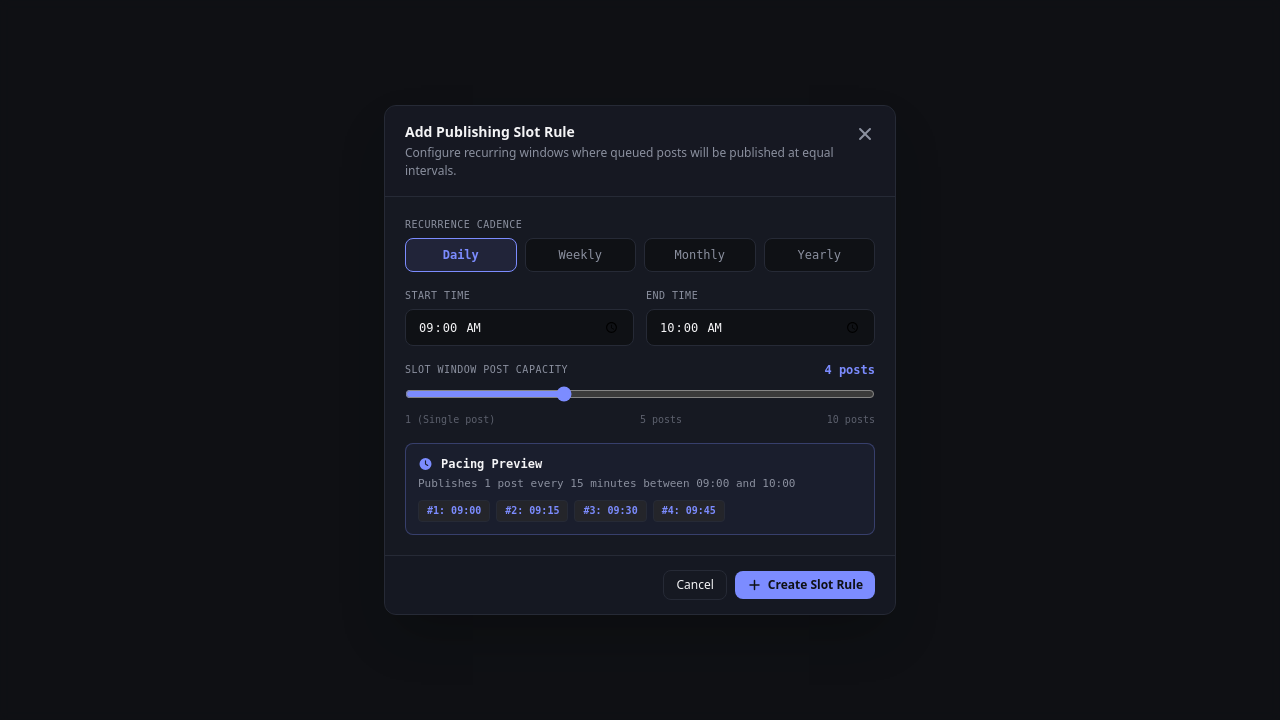
SlotRuleFormModal › changing recurrence to weekly reveals day toggles
The width and height of the screenshot is (1280, 720).
Click the button with test id "recurrence-option-weekly". click: coordinates (580, 255)
box: [524,238,636,272]
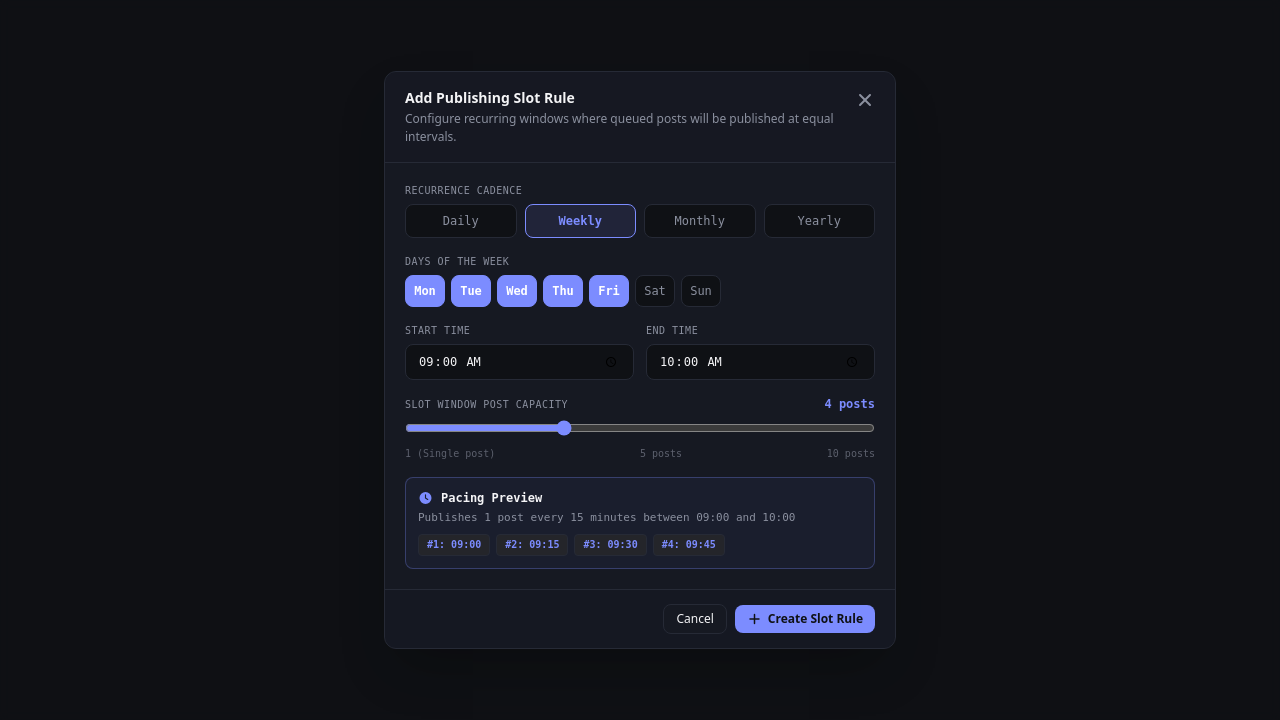
Now the text "Days of the Week" is shown, box [405,256,509,267]
Now the button with test id "day-toggle-mon" is shown, box [405,275,445,307]
Now the button with test id "day-toggle-fri" is shown, box [589,275,629,307]
